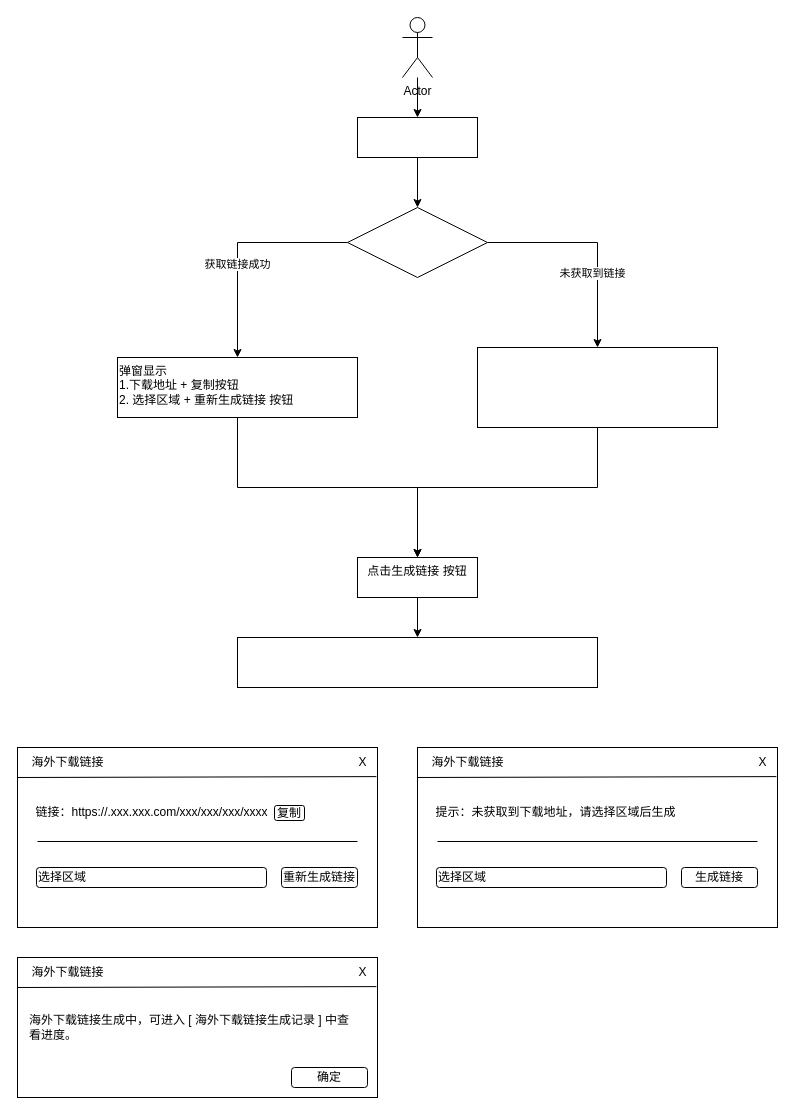
The diagram is 795 pixels wide and 1115 high, and some of its shapes have lost their labels. Here are the shapes that lost their labels. From the top down, the box of each, then its label:
(356, 116, 478, 158): 点击「获取海外链接」按钮
(346, 206, 488, 278): 调用接口获 取海外链接
(476, 346, 718, 428): 弹窗显示 1. 提示语：未获取到下载地址，请选择区域后生成 2. 选择区域 + 重新生成链接 按钮
(236, 636, 598, 688): 弹窗提示（类似校验和计算） 海外地址生成中，可进入「海外地址生成记录」查看进度
